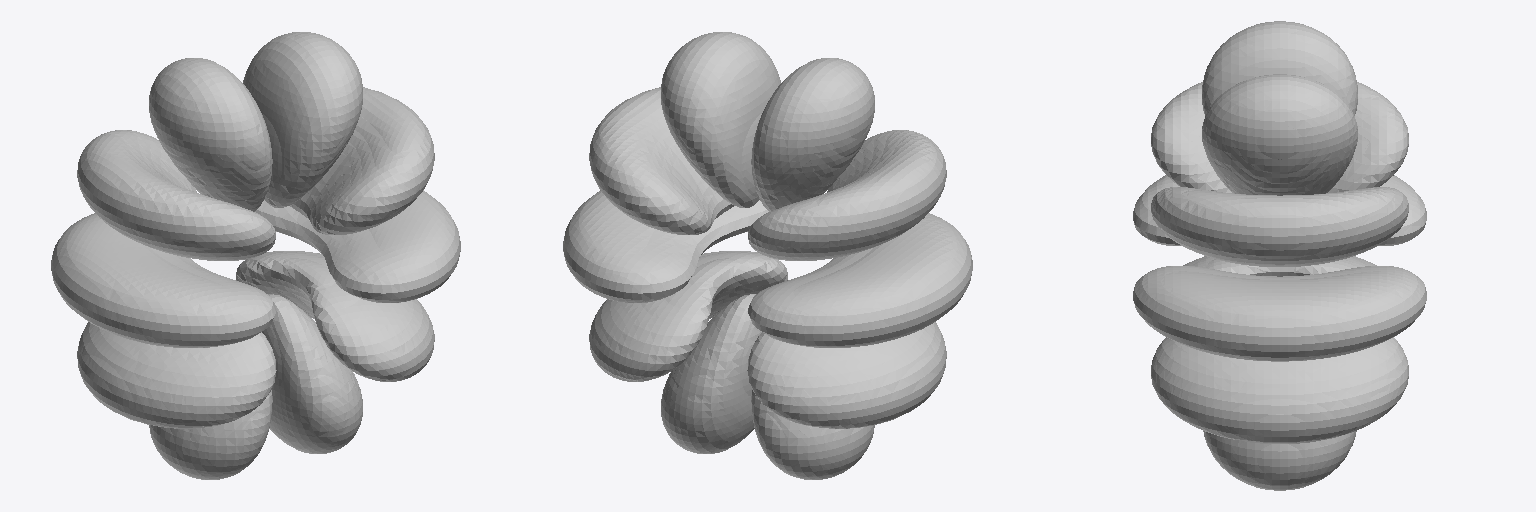
File: orb_n=6_ l=5 _m=1.obj
The picture shows the model from 3 angles: view 1: azimuth 30°, elevation 25°; view 2: azimuth 150°, elevation 25°; view 3: azimuth 270°, elevation 25°; orthographic projection.
Visible parts, largest first — view 1: orb_n=6__l=5__m=1; view 2: orb_n=6__l=5__m=1; view 3: orb_n=6__l=5__m=1.
Part boxes in pixels (bbox=[...]): orb_n=6__l=5__m=1: bbox=[51, 32, 460, 479]; orb_n=6__l=5__m=1: bbox=[563, 32, 972, 479]; orb_n=6__l=5__m=1: bbox=[1133, 21, 1426, 490].
Size of the model in its own units: 123 by 131 by 85.93.